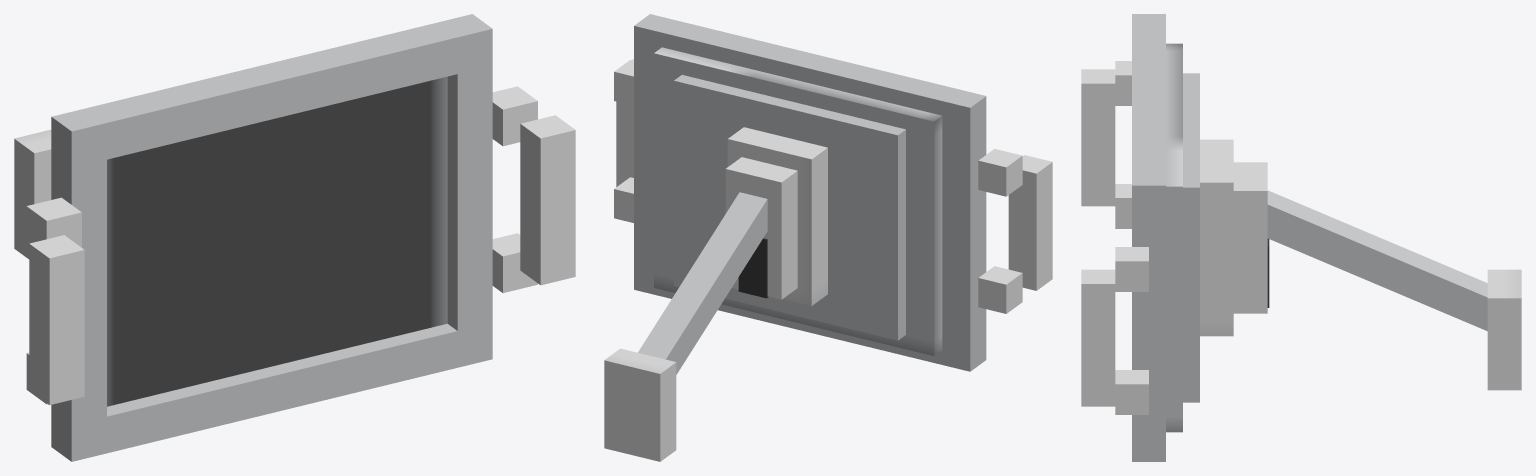
File: monitor.obj
The picture shows the model from 3 angles, left to right: view 1: azimuth 30°, elevation 25°; view 2: azimuth 150°, elevation 25°; view 3: azimuth 270°, elevation 25°; orthographic projection. The views are drawn at different scales.
Visible parts, largest first — view 1: toyotamonitor; view 2: toyotamonitor; view 3: toyotamonitor.
Part boxes in pixels (x1=…): toyotamonitor: x1=14, y1=14, x2=575, y2=461; toyotamonitor: x1=604, y1=14, x2=1052, y2=461; toyotamonitor: x1=1081, y1=14, x2=1521, y2=461.
Bounding box in the file's own units: 0.9375 × 0.5625 × 0.8125.
